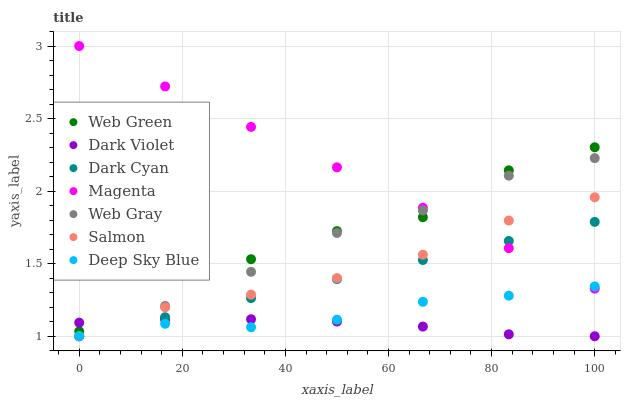axis: (64, 347, 625, 356), (47, 32, 61, 344)
legend: (52, 102, 210, 281)
point: (334, 163, 349, 178), (73, 40, 88, 54), (413, 199, 429, 211), (247, 121, 259, 135), (587, 140, 601, 152), (588, 214, 599, 228), (586, 279, 601, 289), (331, 225, 341, 239), (332, 314, 341, 329), (502, 291, 515, 301), (329, 273, 342, 283), (159, 82, 171, 92), (504, 216, 514, 228), (588, 332, 601, 341), (503, 166, 517, 174), (246, 322, 257, 332), (499, 235, 511, 244), (591, 191, 601, 201), (74, 331, 83, 342), (504, 174, 515, 183), (73, 319, 85, 327), (158, 302, 169, 310), (418, 298, 429, 306), (244, 256, 256, 263), (418, 257, 427, 266), (589, 154, 599, 162), (246, 297, 254, 306), (417, 213, 426, 221), (506, 246, 513, 256), (245, 316, 256, 322), (417, 252, 428, 258), (161, 320, 171, 326), (160, 312, 169, 318), (246, 268, 254, 273), (248, 291, 257, 295)
